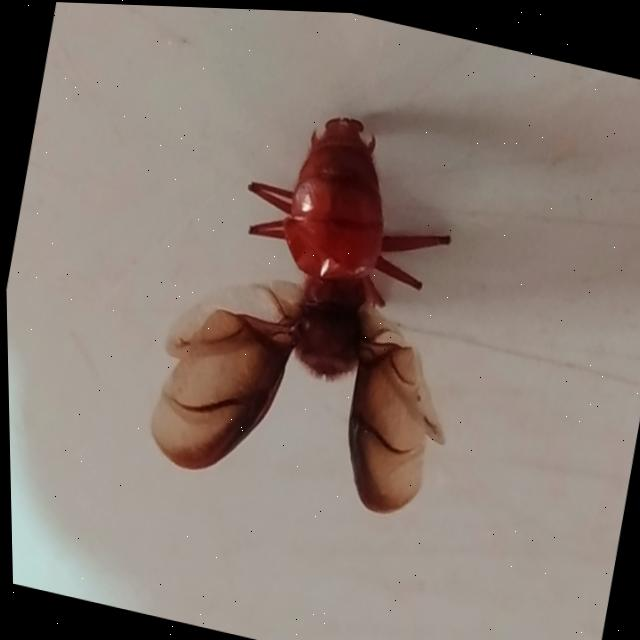Dead-Male-Alate: (134, 81, 503, 525)
